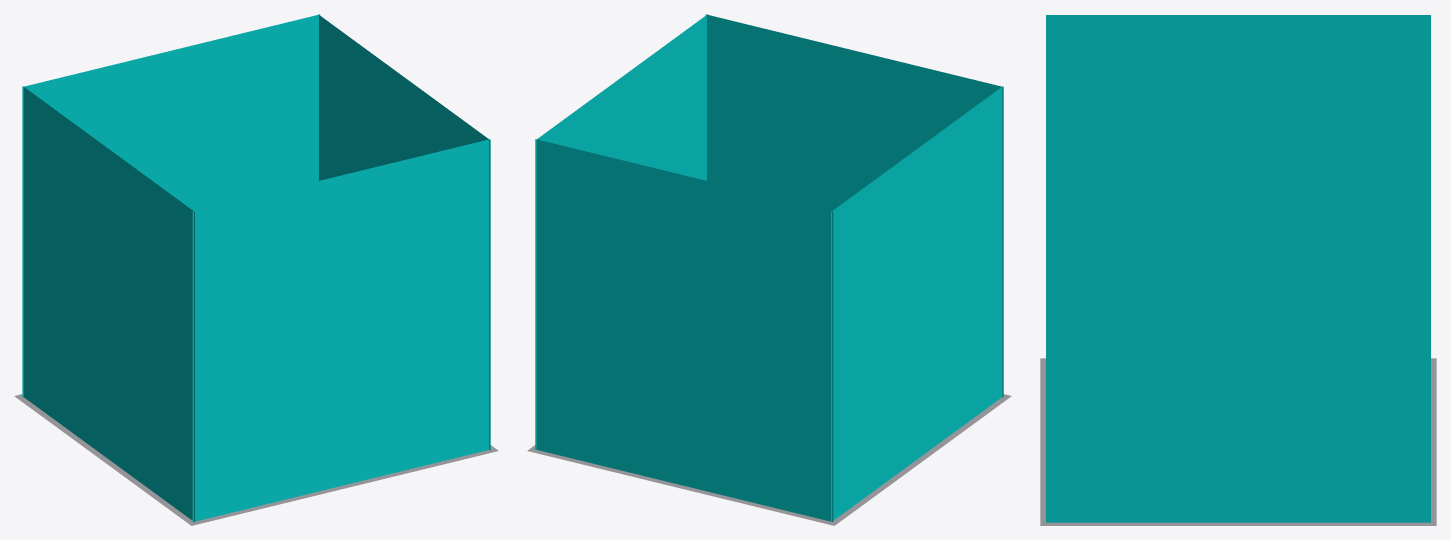
Rendered from floor.glb.
The picture shows the model from 3 angles, left to right: view 1: azimuth 30°, elevation 25°; view 2: azimuth 150°, elevation 25°; view 3: azimuth 270°, elevation 25°; orthographic projection. The views are drawn at different scales.
Parts seen in each view (by area): view 1: Wall.003, Wall.001, Wall.002, Wall, Plane; view 2: Wall.002, Wall.001, Wall.003, Wall, Plane; view 3: Wall, Wall.001, Plane.
Boxes of the visible parts, x1,y1,x2,y2 form: Wall.003: (192, 139, 490, 521); Wall.001: (22, 86, 194, 522); Wall.002: (22, 14, 320, 397); Wall: (318, 14, 490, 450); Plane: (14, 394, 498, 525); Wall.002: (535, 139, 833, 521); Wall.001: (831, 86, 1003, 522); Wall.003: (705, 14, 1003, 397); Wall: (535, 14, 707, 450); Plane: (527, 394, 1011, 525); Wall: (1046, 175, 1430, 522); Wall.001: (1046, 15, 1430, 175); Plane: (1040, 358, 1436, 525).
Size of what is drawn, in the model's own units: 50 by 48.51 by 50.
